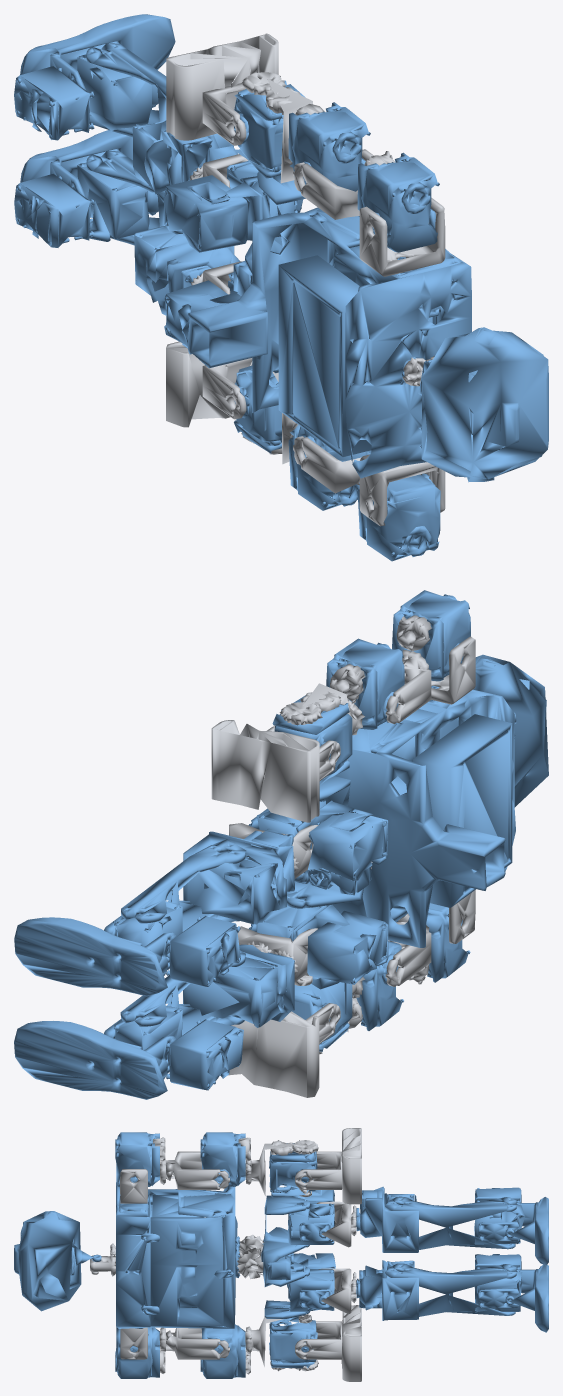
3 views of the same model, one above another, from view 1: azimuth 30°, elevation 25°; view 2: azimuth 150°, elevation 25°; view 3: azimuth 270°, elevation 25° (orthographic). The views are drawn at different scales.
Visible parts, largest first — view 1: torso, head, left_hand, right_ankle_pitch_link, left_ankle_pitch_link, left_hip_pitch_link, left_shoulder_roll_link, right_hand, right_shoulder_roll_link, left_ankle_roll_link, left_elbow_roll_link, right_hip_yaw_link (+15 smaller); view 2: torso, left_hand, left_ankle_roll_link, right_ankle_roll_link, left_hip_yaw_link, right_hip_pitch_link, right_hand, left_hip_pitch_link, right_hip_yaw_link, right_ankle_pitch_link, left_ankle_pitch_link, head (+18 smaller); view 3: torso, head, pelvis_link, right_knee_link, left_knee_link, left_hip_yaw_link, left_hand, right_hand, right_hip_yaw_link, right_hip_pitch_link, left_hip_pitch_link, left_ankle_pitch_link (+19 smaller).
Part boxes in pixels (<box>): torso: <box>188,207,471,478</box>; head: <box>418,327,548,482</box>; left_hand: <box>166,33,278,145</box>; right_ankle_pitch_link: <box>14,160,158,247</box>; left_ankle_pitch_link: <box>14,50,158,140</box>; left_hip_pitch_link: <box>163,161,302,252</box>; left_shoulder_roll_link: <box>357,152,439,252</box>; right_hand: <box>166,341,252,427</box>; right_shoulder_roll_link: <box>357,473,440,561</box>; left_ankle_roll_link: <box>20,14,175,90</box>; left_elbow_roll_link: <box>288,102,370,191</box>; right_hip_yaw_link: <box>134,226,240,315</box>; torso: <box>325,685,515,947</box>; left_hand: <box>211,720,340,822</box>; left_ankle_roll_link: <box>14,917,176,996</box>; right_ankle_roll_link: <box>14,1021,175,1099</box>; left_hip_yaw_link: <box>183,828,294,924</box>; right_hip_pitch_link: <box>248,898,388,984</box>; right_hand: <box>220,1003,340,1097</box>; left_hip_pitch_link: <box>248,800,388,880</box>; right_hip_yaw_link: <box>183,944,294,1027</box>; right_ankle_pitch_link: <box>104,1005,243,1090</box>; left_ankle_pitch_link: <box>104,901,240,986</box>; head: <box>473,654,548,807</box>; torso: <box>116,1182,240,1328</box>; head: <box>14,1211,101,1311</box>; pelvis_link: <box>261,1195,309,1318</box>; right_knee_link: <box>385,1263,516,1316</box>; left_knee_link: <box>385,1196,516,1249</box>; left_hip_yaw_link: <box>356,1186,418,1252</box>; left_hand: <box>295,1128,361,1204</box>; right_hand: <box>295,1305,361,1381</box>; right_hip_yaw_link: <box>356,1260,418,1320</box>; right_hip_pitch_link: <box>287,1253,335,1311</box>; left_hip_pitch_link: <box>287,1187,334,1244</box>; left_ankle_pitch_link: <box>474,1187,525,1244</box>.
Size of the model in its own units: 0.1707 by 0.2603 by 0.5375.
